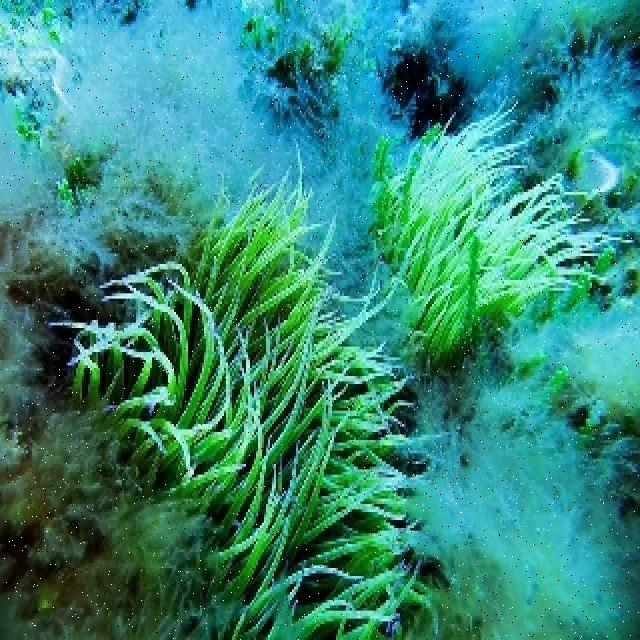reefs: (46, 140, 455, 637), (372, 85, 635, 378)
